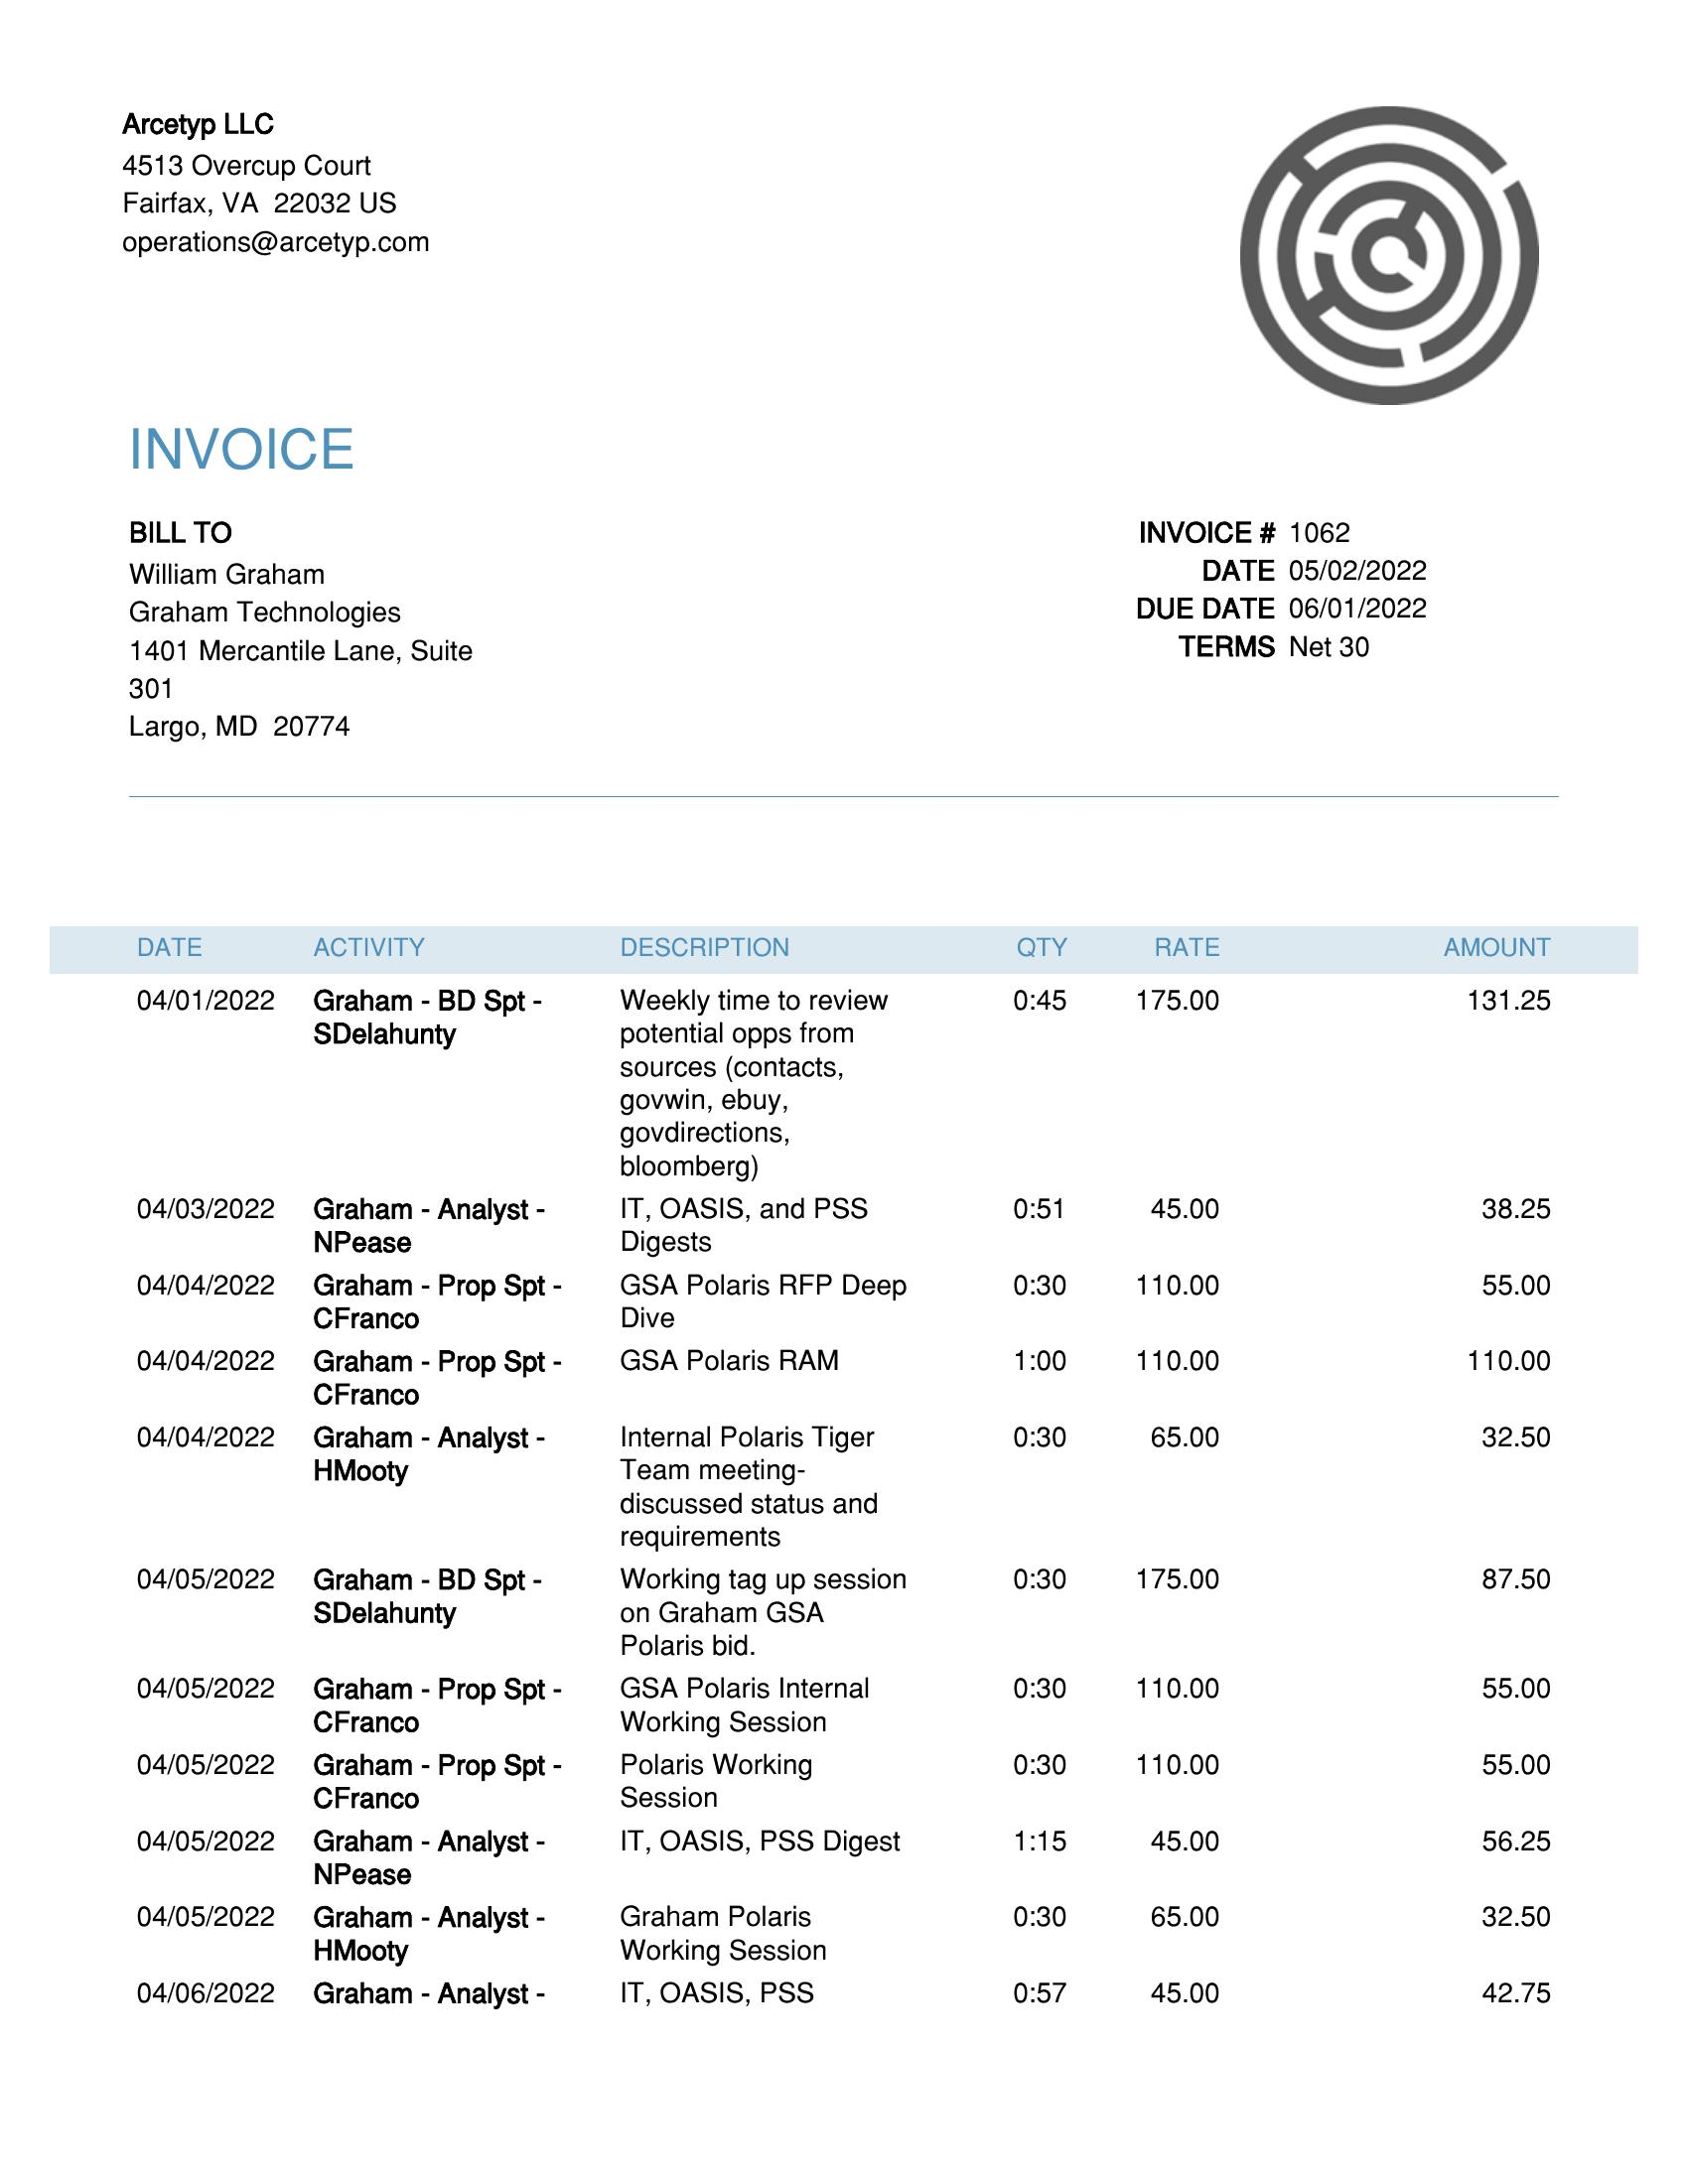table: (43, 899, 1638, 2055)
